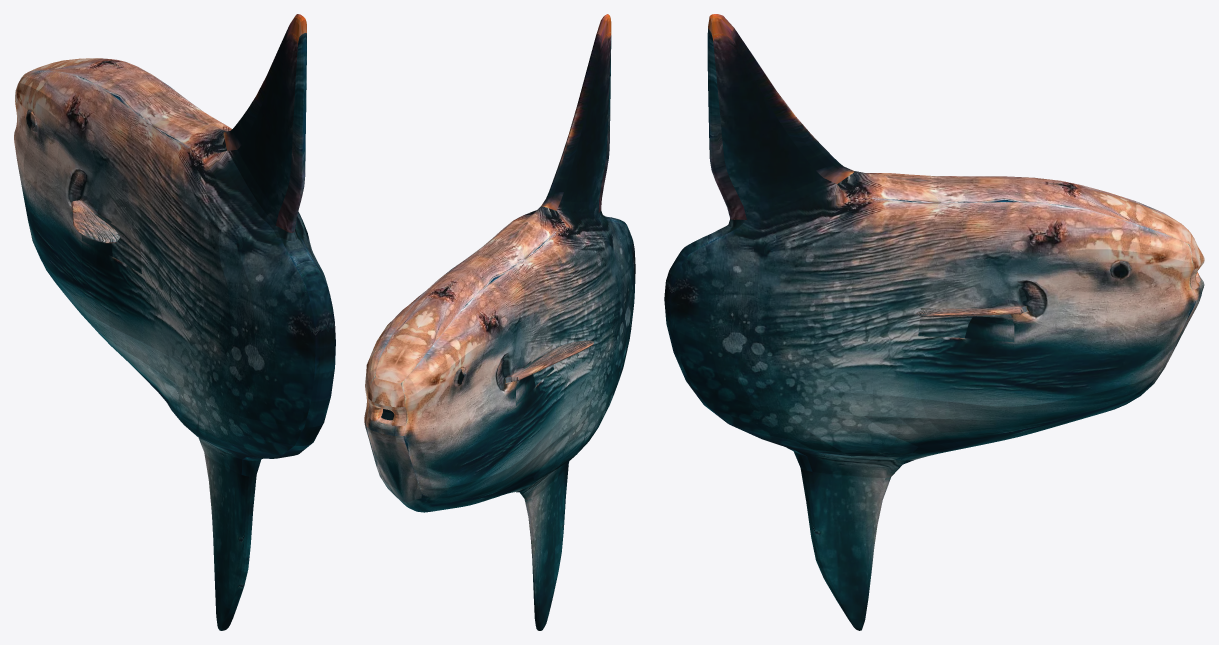
The model's file is mola-alexandrini.glb.
3 renders of one model, left to right at view 1: azimuth 30°, elevation 25°; view 2: azimuth 150°, elevation 25°; view 3: azimuth 270°, elevation 25°, orthographic. The views are drawn at different scales.
Parts seen in each view (by area): view 1: mola_alexandrini.001; view 2: mola_alexandrini.001; view 3: mola_alexandrini.001.
Part boxes in pixels (left/top/right/bottom): mola_alexandrini.001: left=14, top=14, right=335, bottom=630; mola_alexandrini.001: left=364, top=14, right=635, bottom=630; mola_alexandrini.001: left=664, top=14, right=1204, bottom=630.
Size of the model in its own units: 6.7 by 20.79 by 16.52.
Materials: 2 (2 with a texture image).
